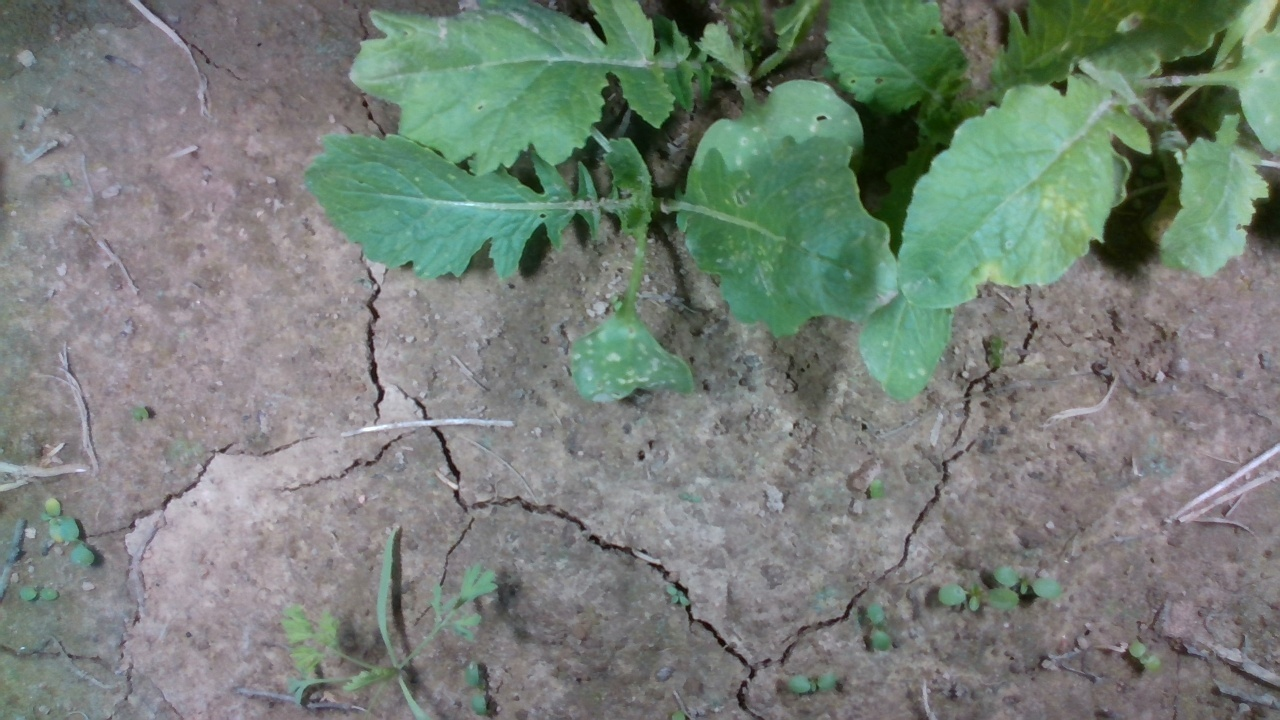weed: (781, 666, 835, 694), (865, 600, 893, 652), (1128, 639, 1162, 673), (18, 586, 59, 602)
